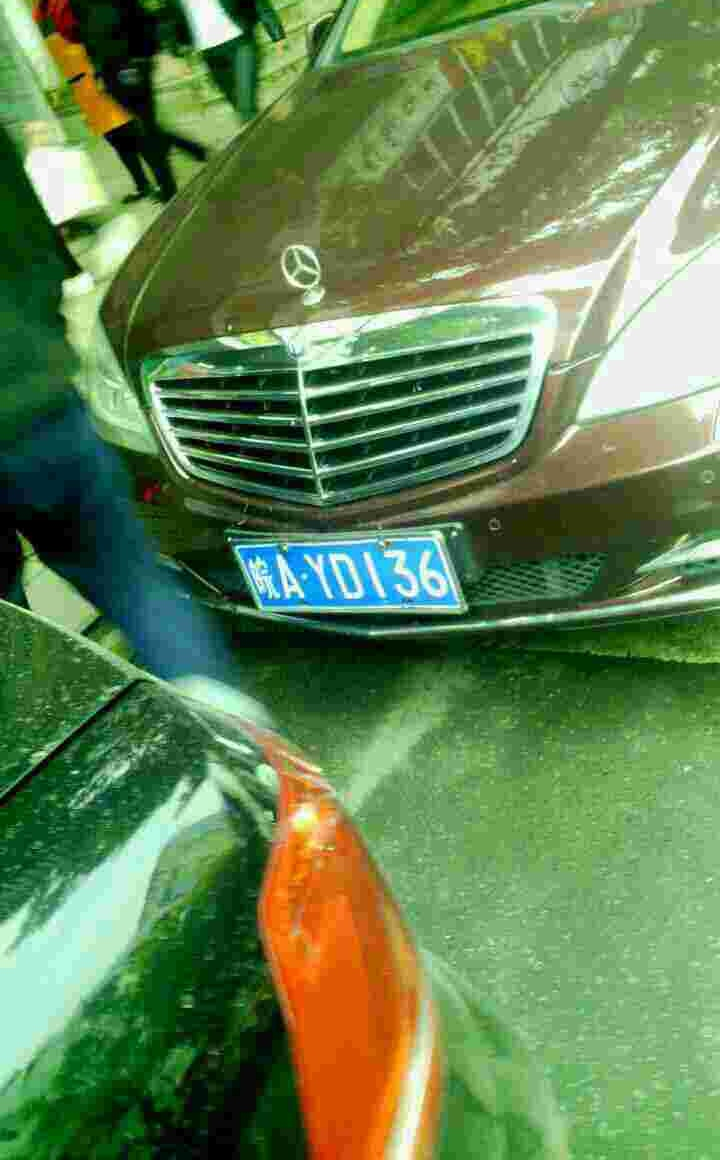car: (231, 537, 468, 616)
